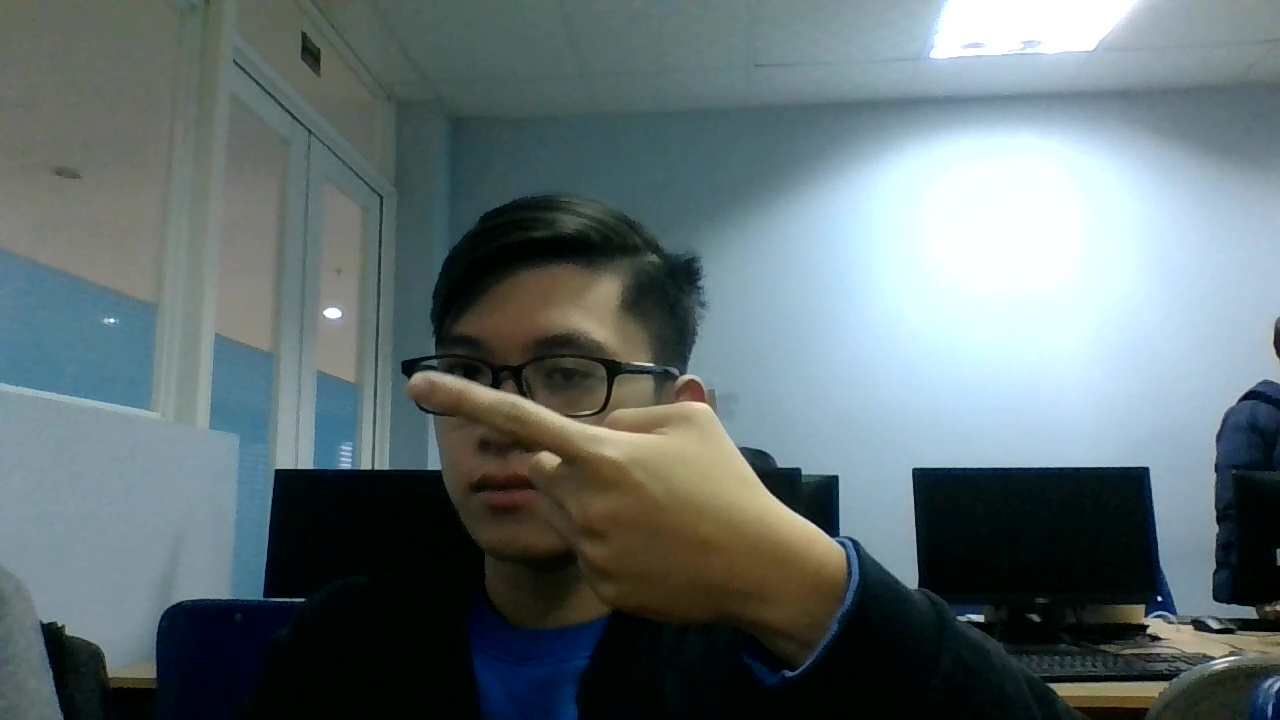right: (408, 362, 760, 644)
